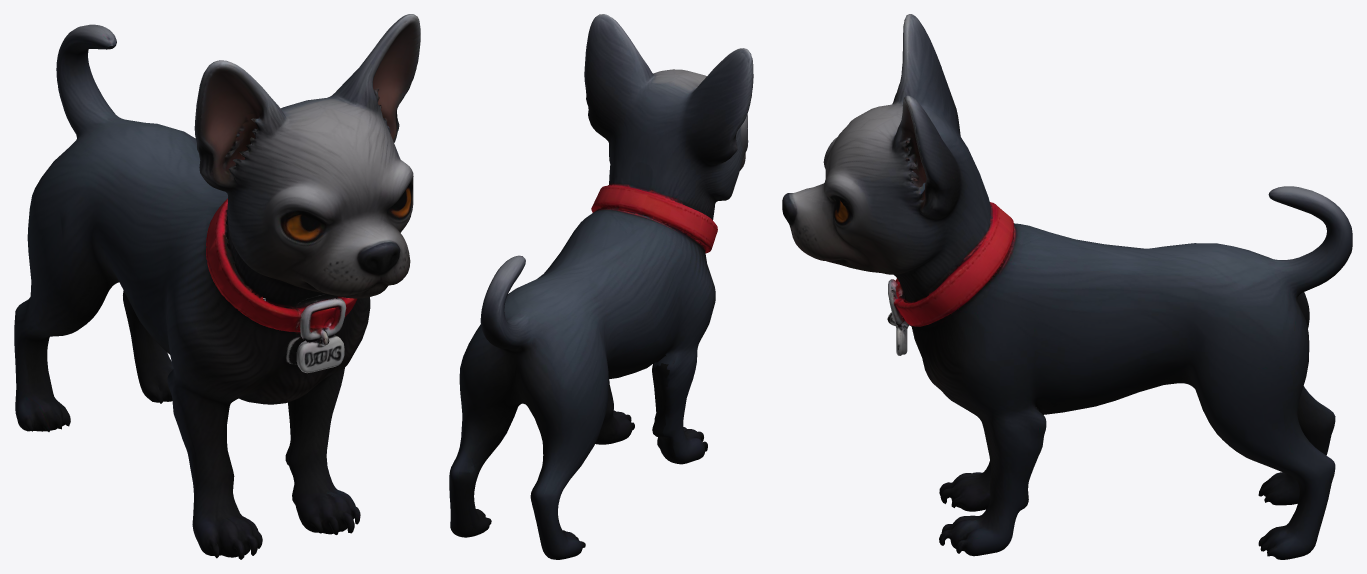
File: steve.glb
The picture shows the model from 3 angles, left to right: view 1: azimuth 30°, elevation 25°; view 2: azimuth 150°, elevation 25°; view 3: azimuth 270°, elevation 25°; orthographic projection. The views are drawn at different scales.
Parts seen in each view (by area): view 1: world; view 2: world; view 3: world.
Boxes of the visible parts, bbox=[...] form: world: bbox=[14, 14, 420, 559]; world: bbox=[449, 14, 753, 559]; world: bbox=[782, 14, 1352, 559].
Size of the model in its own units: 0.7928 by 1.81 by 1.99.
Materials: 1 (1 with a texture image).
